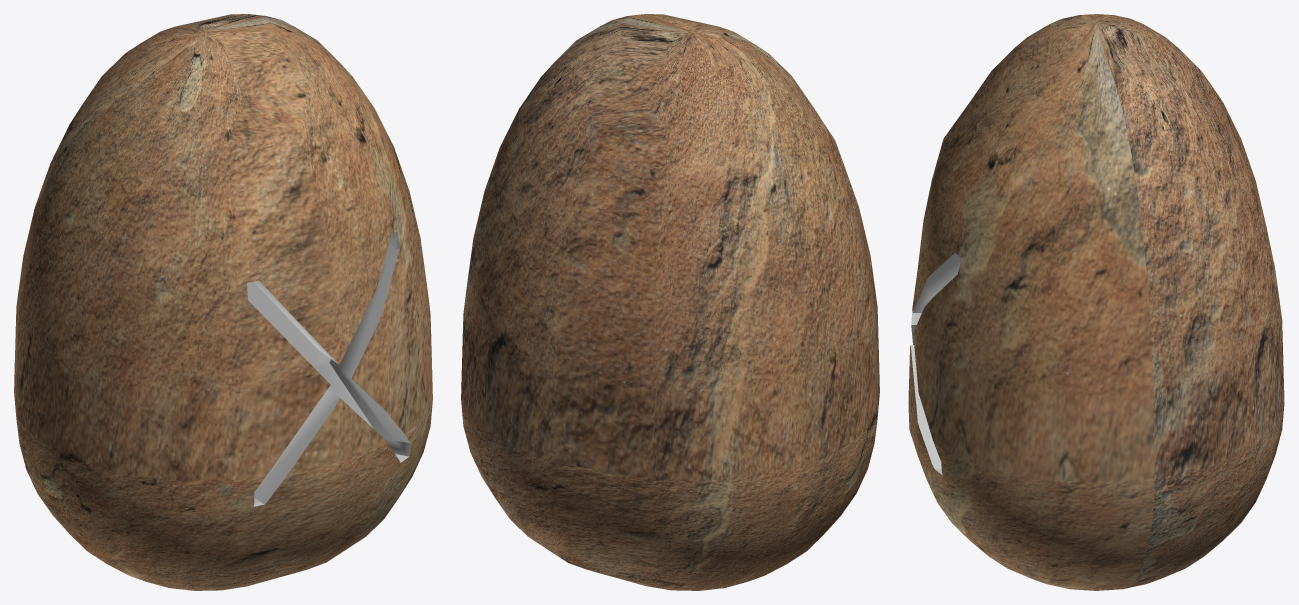
File: Rune.obj
3 renders of one model, left to right at view 1: azimuth 30°, elevation 25°; view 2: azimuth 150°, elevation 25°; view 3: azimuth 270°, elevation 25°, orthographic.
Visible parts, largest first — view 1: pSphere2; view 2: pSphere2; view 3: pSphere2.
Part boxes in pixels (x1=…): pSphere2: x1=14, y1=14, x2=432, y2=590; pSphere2: x1=461, y1=14, x2=879, y2=590; pSphere2: x1=908, y1=14, x2=1284, y2=590.
Bounding box in the file's own units: 2.23 × 3.13 × 2.
